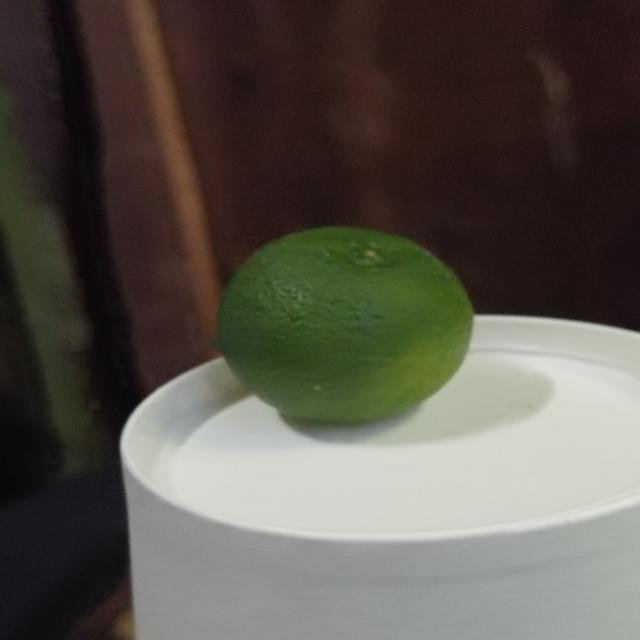heathy: (208, 220, 482, 431)
